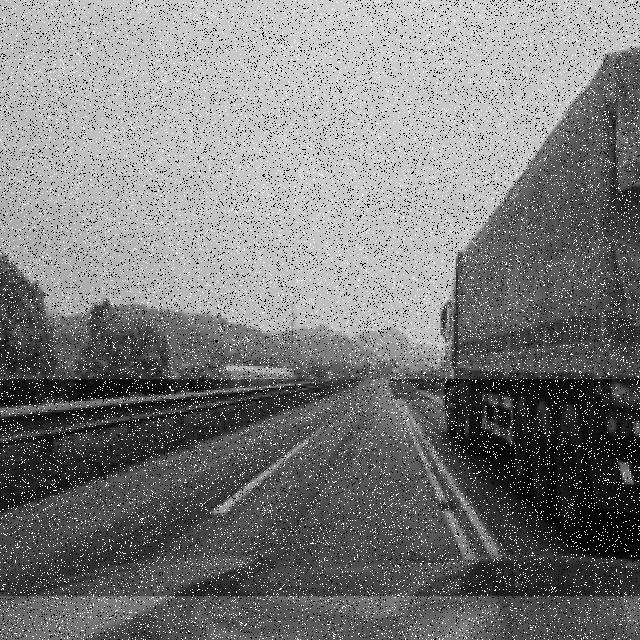clear-road: (0, 380, 640, 596)
